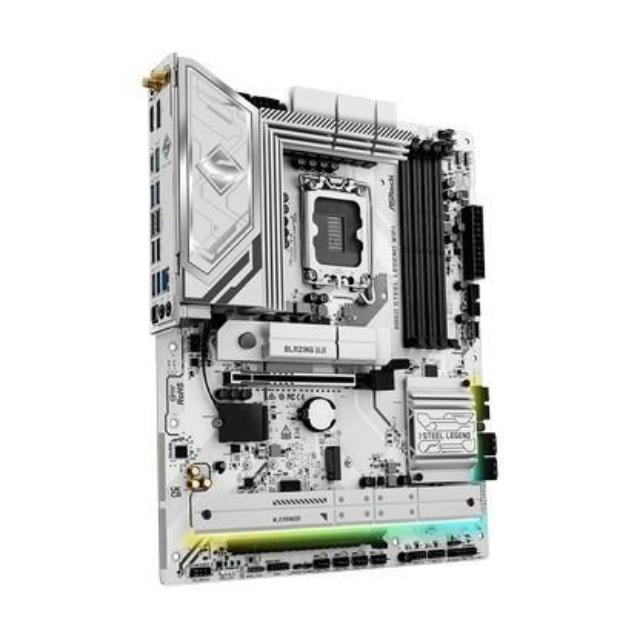Mainboard: (130, 49, 504, 578)
